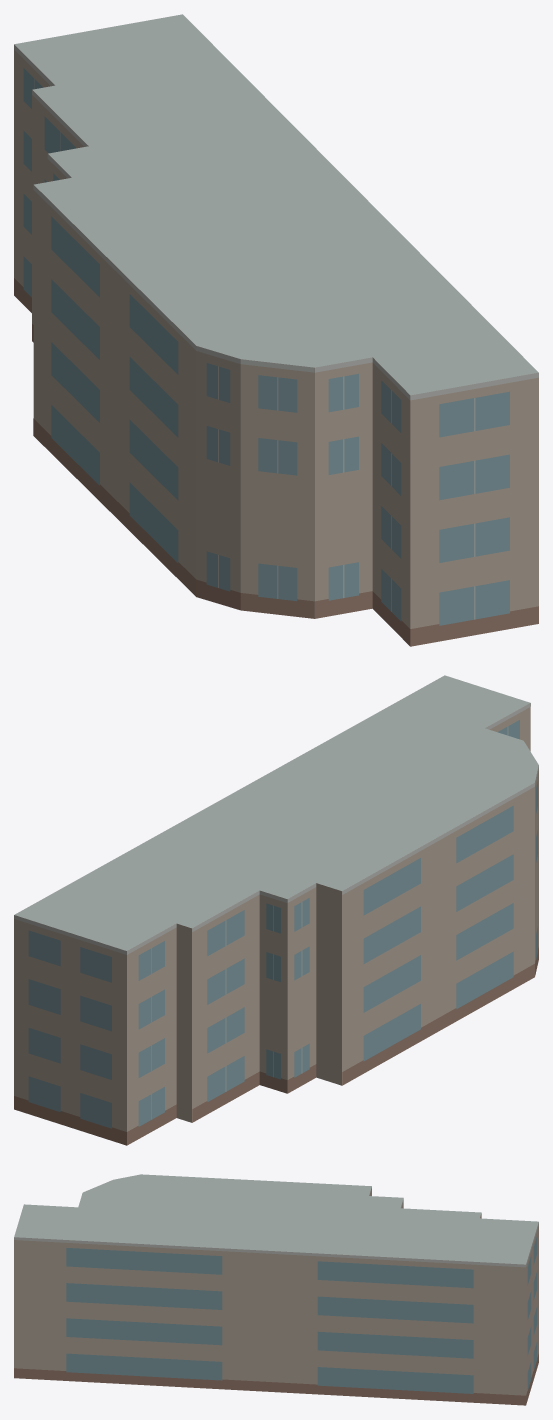
Rendered from residential-10f2356b-da42-4270-a939-86f9b5bc2625.glb.
3 renders of one model, top to bottom at view 1: azimuth 30°, elevation 25°; view 2: azimuth 150°, elevation 25°; view 3: azimuth 270°, elevation 25°, orthographic. The views are drawn at different scales.
Visible parts, largest first — view 1: residential-10f2356b-da42-4270-a939-86f9b5bc2625.tmp; view 2: residential-10f2356b-da42-4270-a939-86f9b5bc2625.tmp; view 3: residential-10f2356b-da42-4270-a939-86f9b5bc2625.tmp.
Part boxes in pixels (box(x1,y1,x2,y2)): residential-10f2356b-da42-4270-a939-86f9b5bc2625.tmp: box(14, 14, 538, 646); residential-10f2356b-da42-4270-a939-86f9b5bc2625.tmp: box(14, 675, 538, 1145); residential-10f2356b-da42-4270-a939-86f9b5bc2625.tmp: box(14, 1174, 538, 1405).
Bounding box in the file's own units: 16.76 × 12.2 × 41.18.
